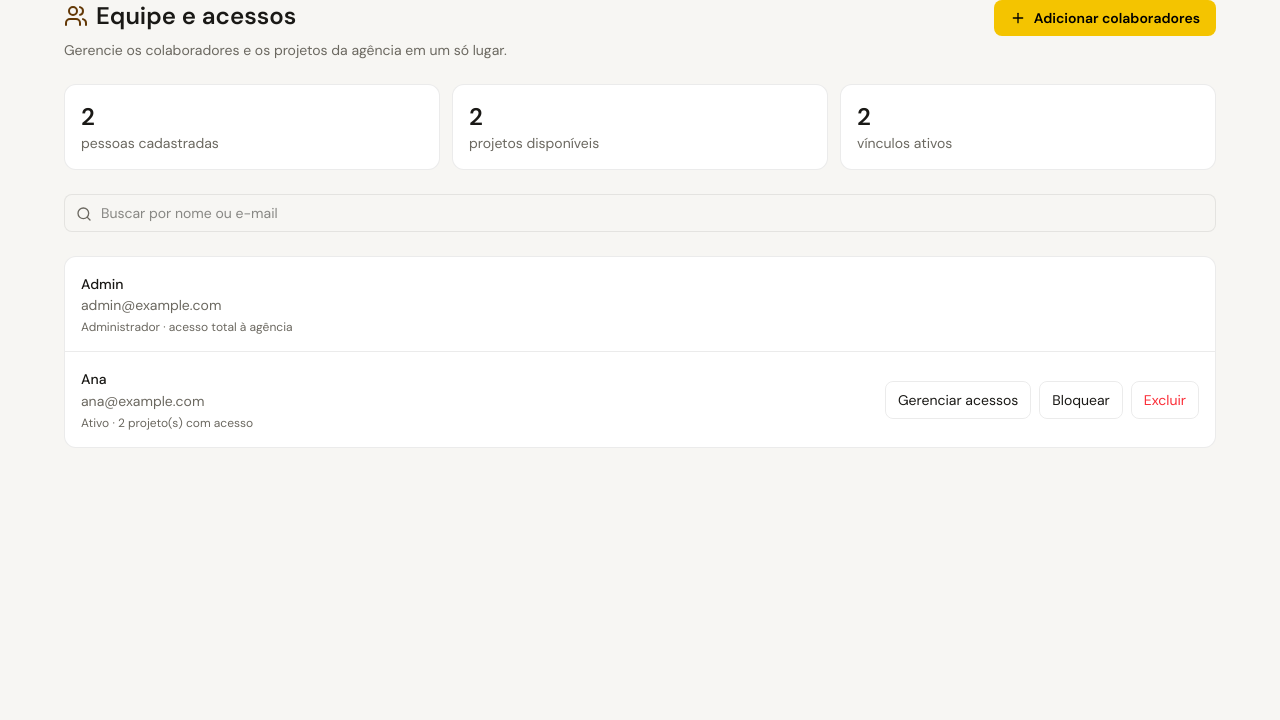
account lifecycle controls › requires typing the email and allows cancellation without deleting
Click the button named "Excluir Ana": (1165, 400) left=1131, top=381, right=1199, bottom=419
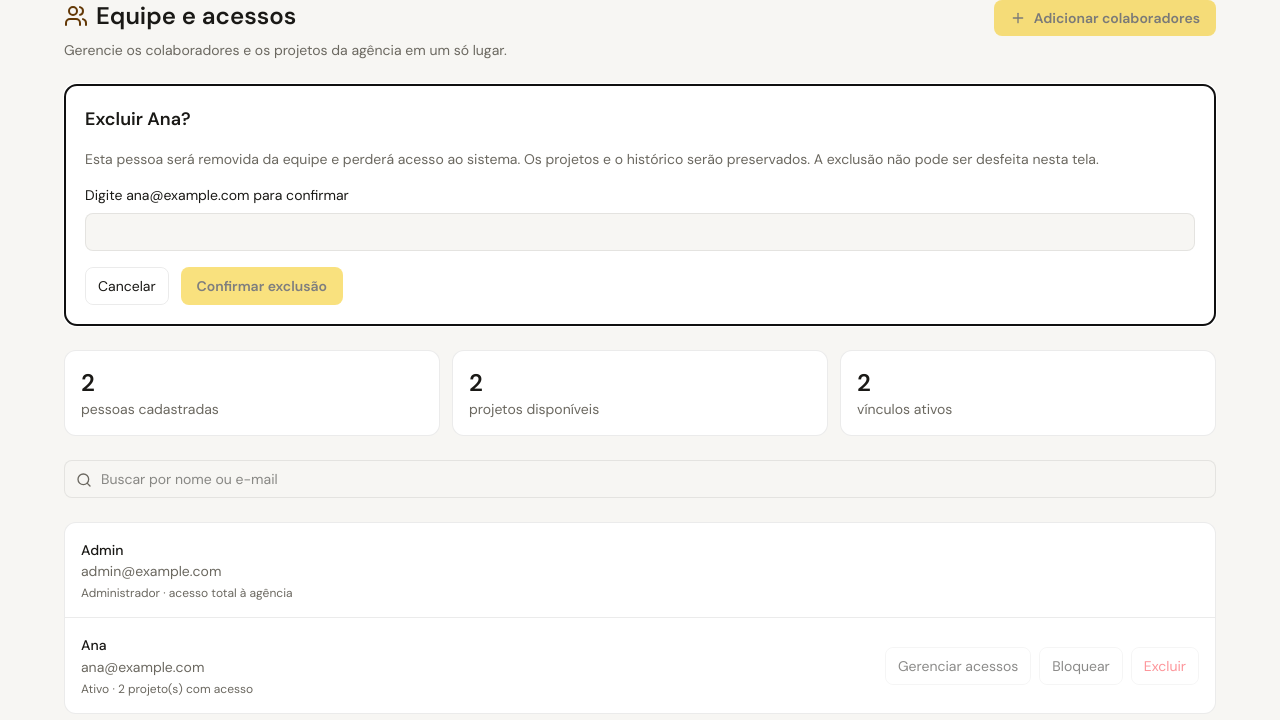
Expected: the button "Confirmar exclusão" is disabled, left=181, top=267, right=343, bottom=305
Click the button "Cancelar": (127, 286) left=85, top=267, right=169, bottom=305
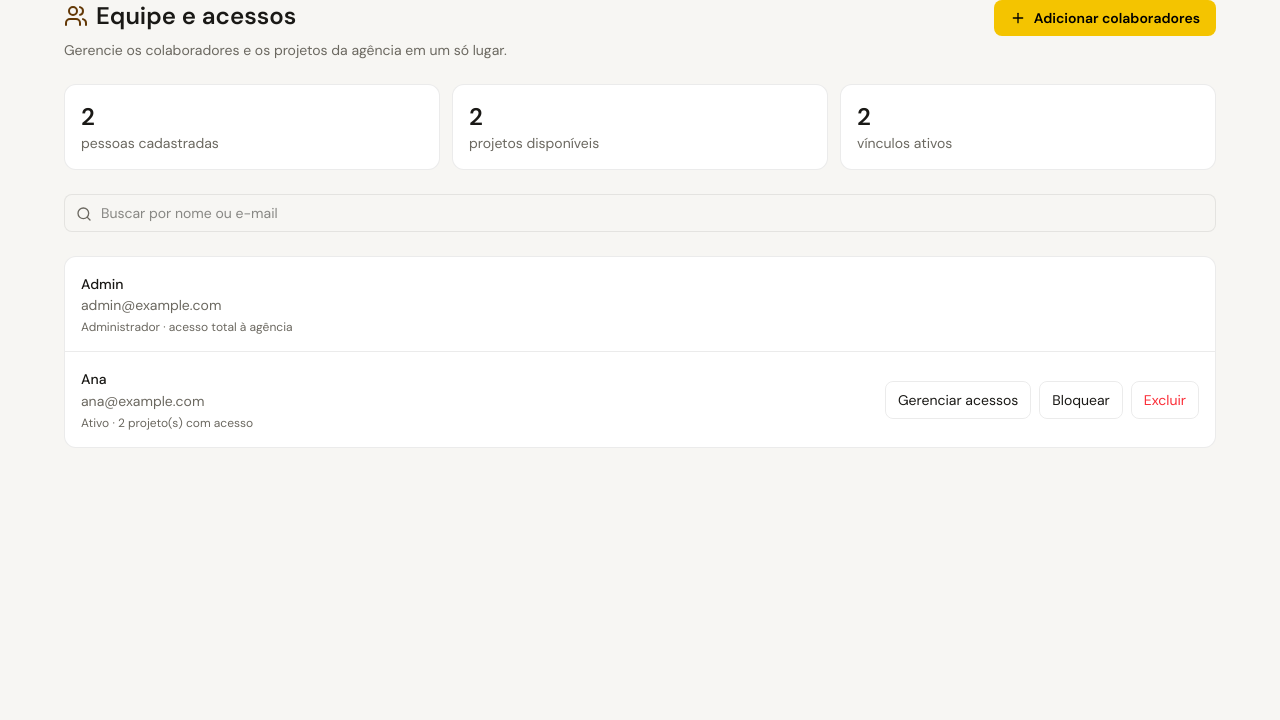
Click the button named "Excluir Ana": (1165, 400) left=1131, top=381, right=1199, bottom=419
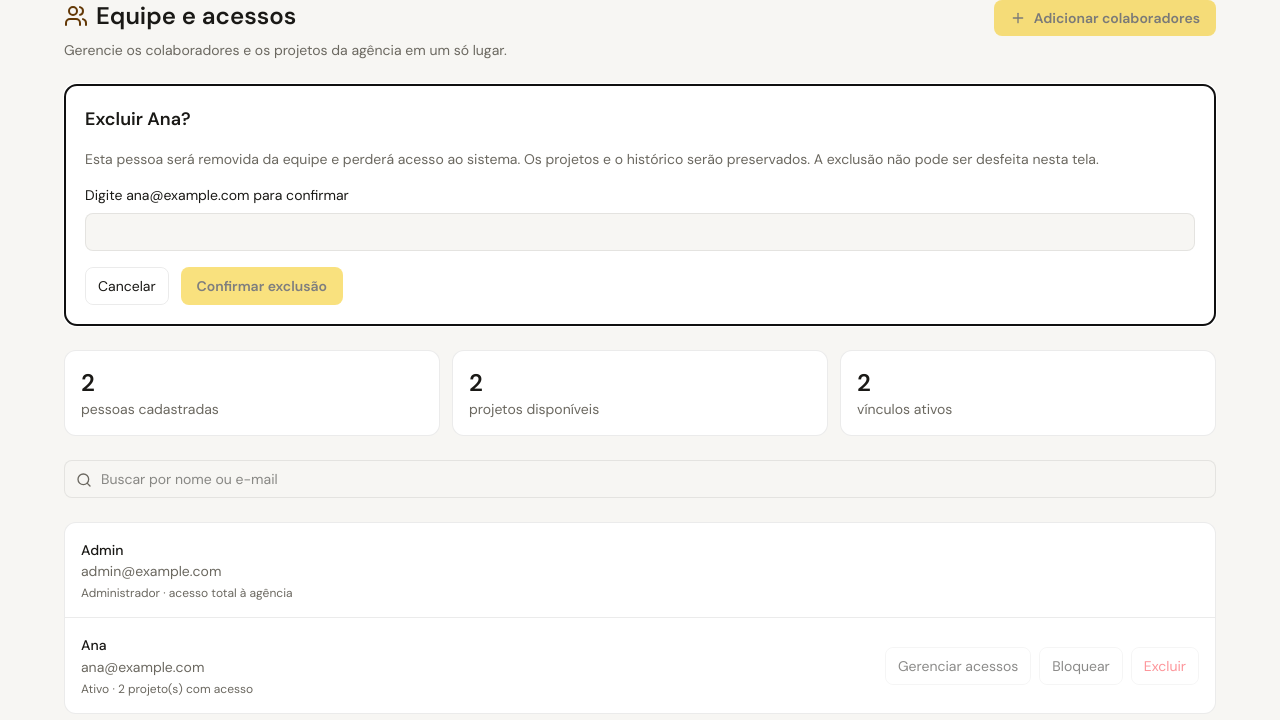
In the field named "E-mail para confirmar exclusão": (640, 232) left=85, top=213, right=1195, bottom=251, type "ana@example.com"
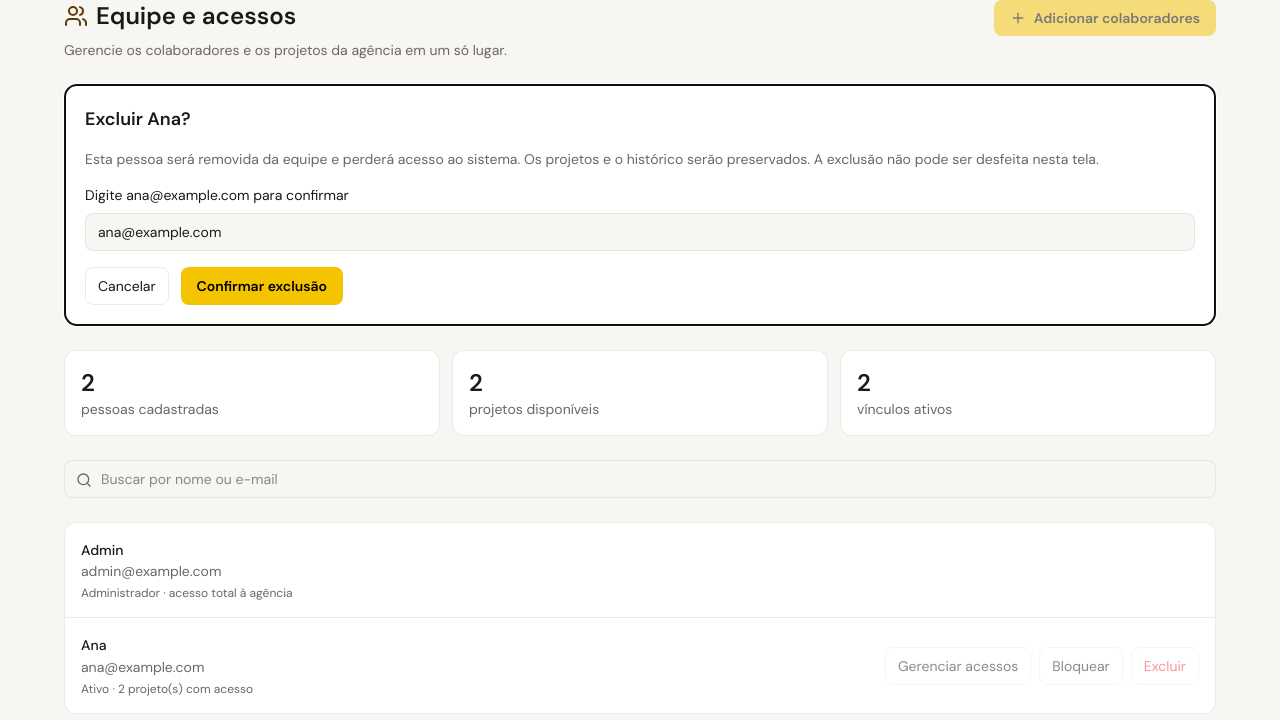
Click the button "Confirmar exclusão": (262, 286) left=181, top=267, right=343, bottom=305
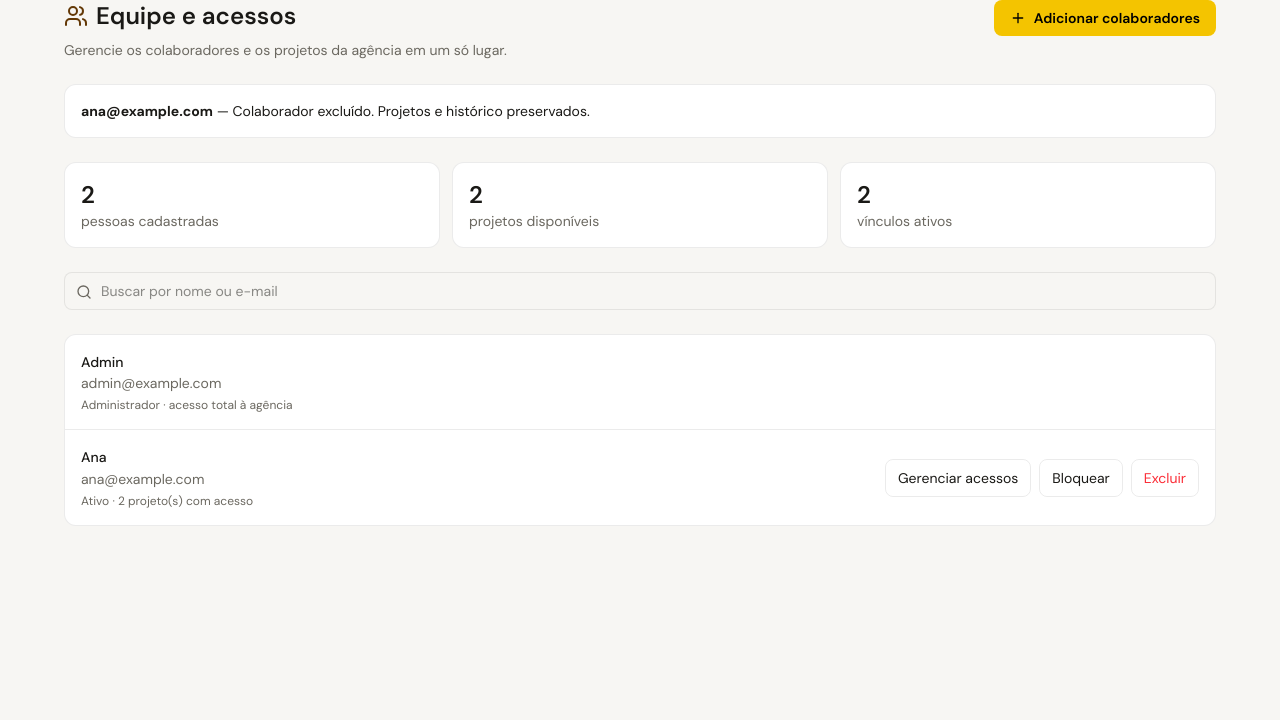
Expected: the text "Colaborador excluído" is shown, left=233, top=102, right=590, bottom=120
